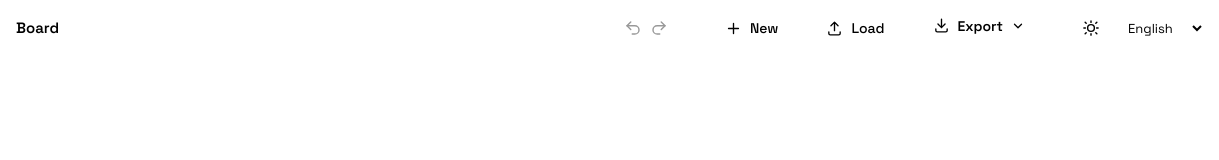
Test: TopBar › export choice › clicking Export shows the two choices without exporting yet
Click the button "Export" at x=979, y=26, box left=916, top=17, right=1041, bottom=35
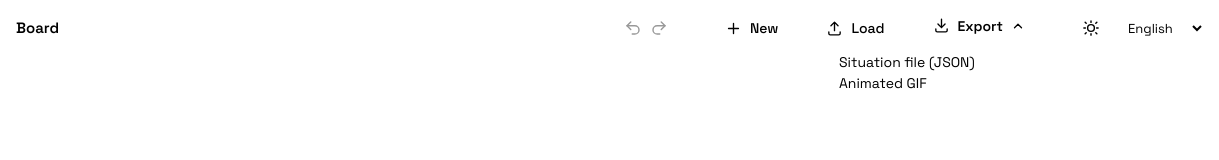
Check: the button "Export" is expanded, box left=916, top=17, right=1041, bottom=35
Check: the buttons read "Situation file (JSON)", "Animated GIF", in this order, box left=827, top=53, right=1035, bottom=71; left=827, top=74, right=1035, bottom=92
Check: the number of list items is 2, box left=827, top=51, right=1035, bottom=72; left=827, top=72, right=1035, bottom=93
